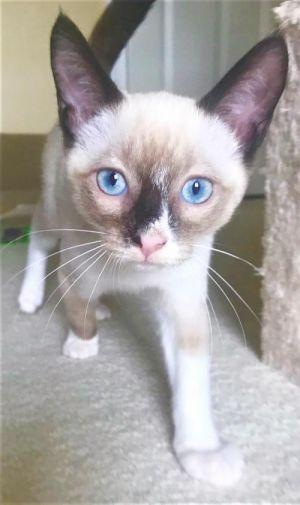siamese: (33, 1, 300, 297)
